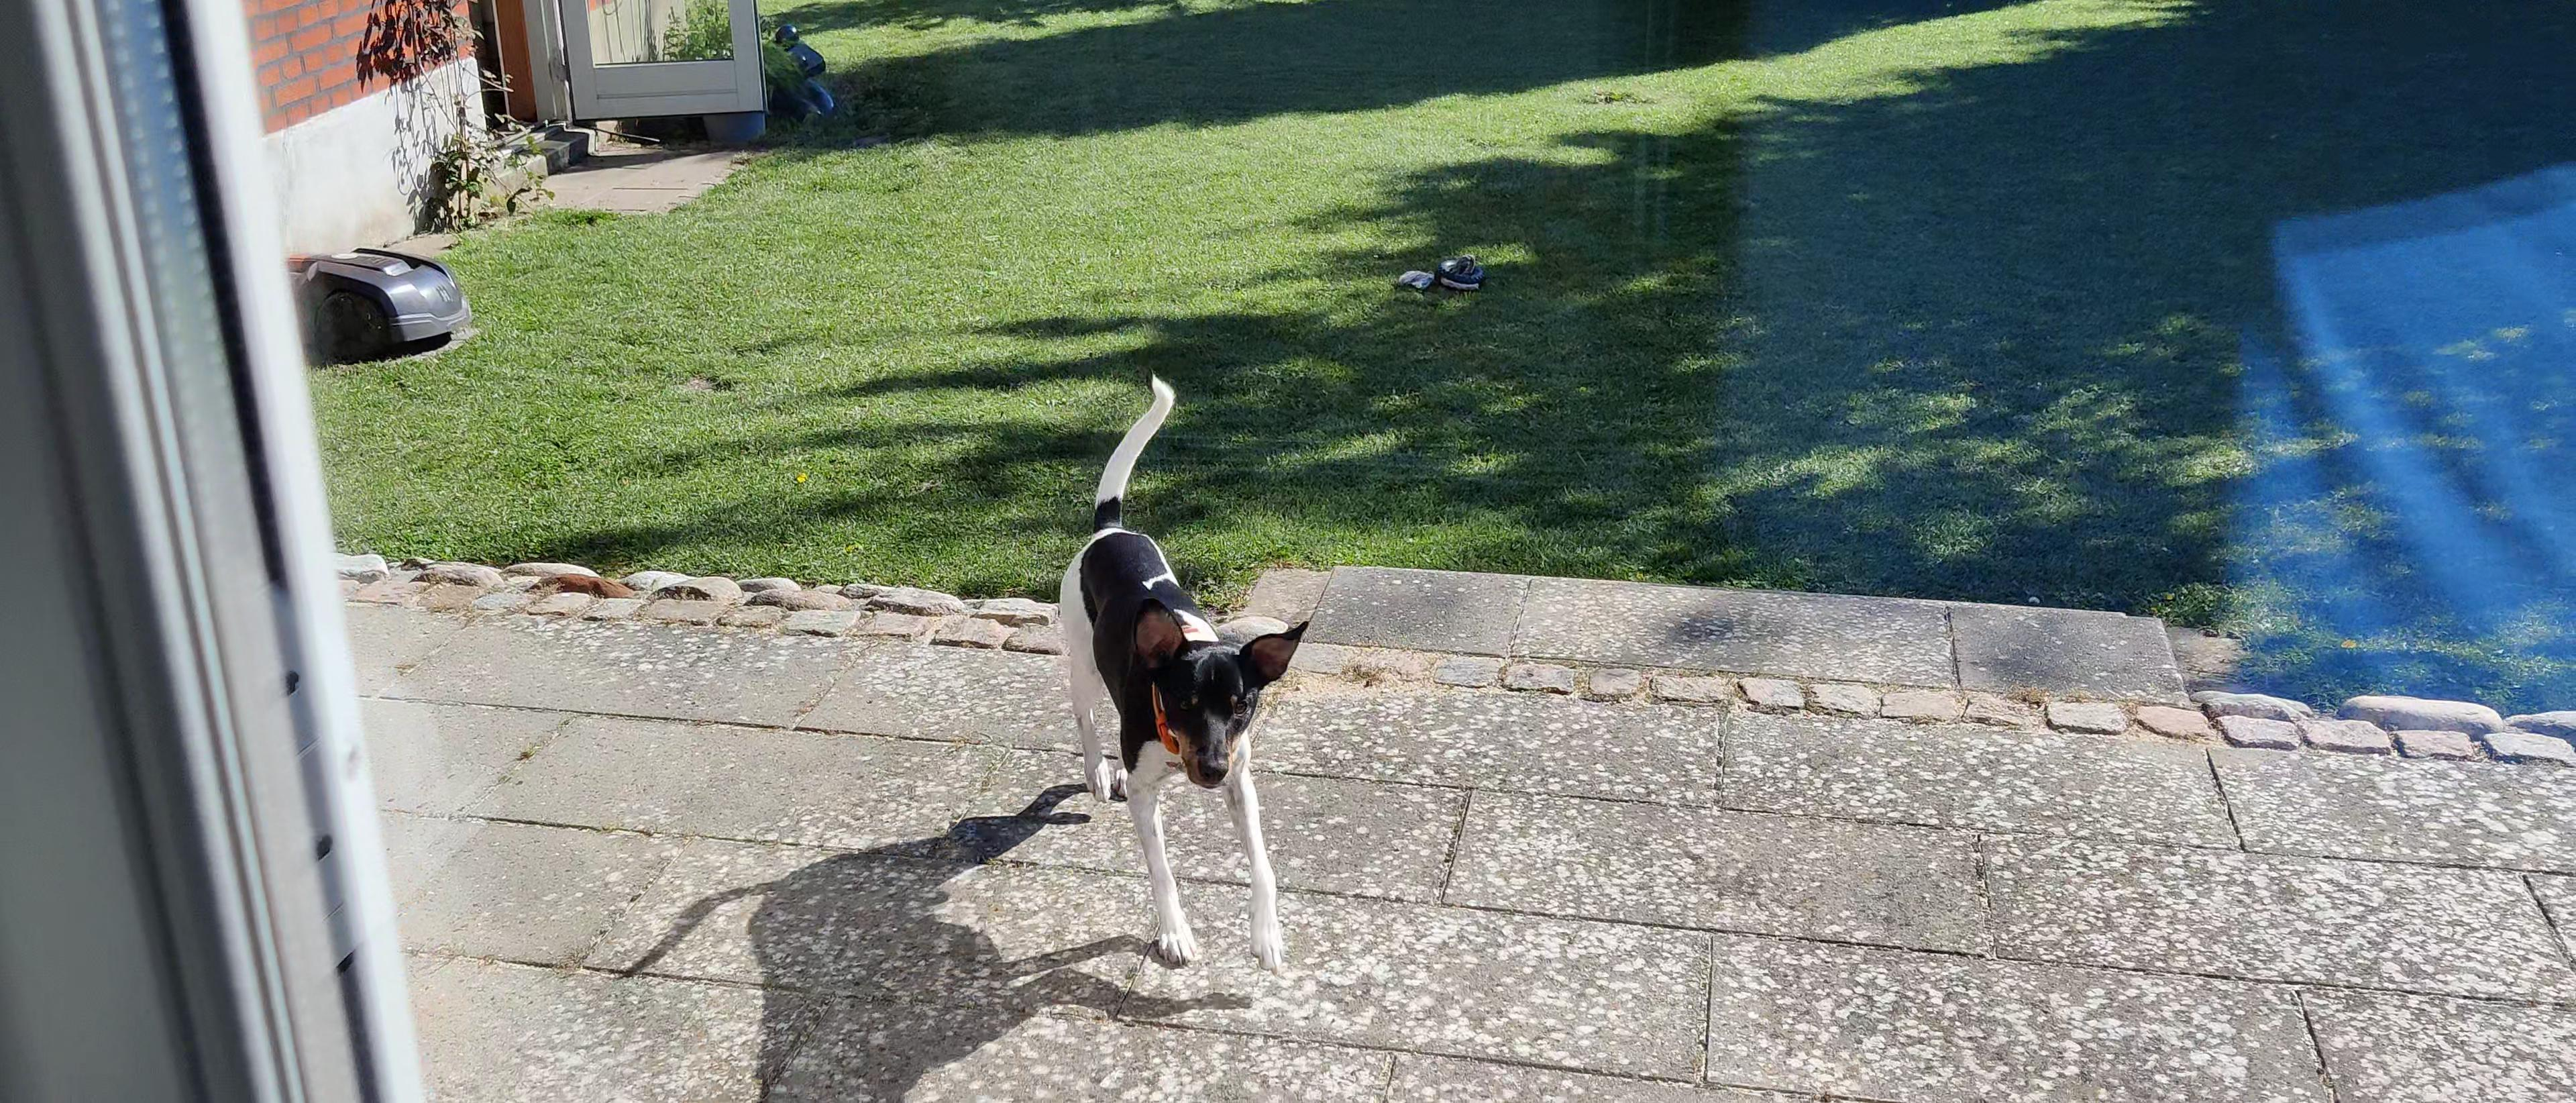Dog: (1050, 368, 1313, 978)
